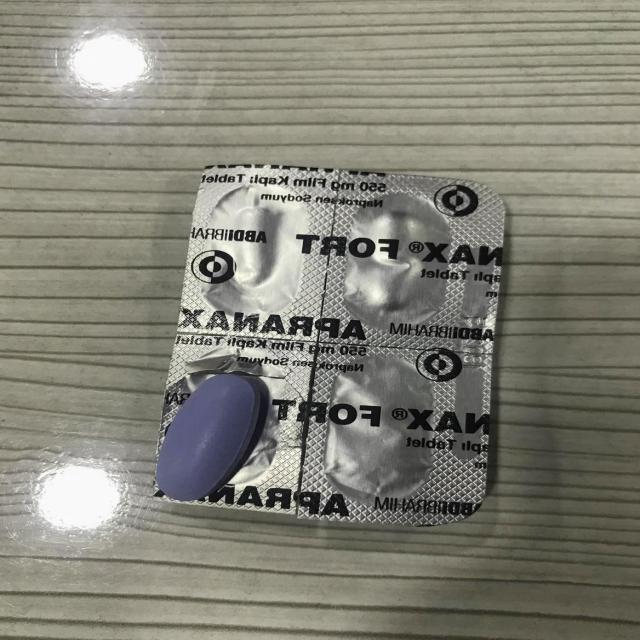pill: (160, 370, 268, 502)
